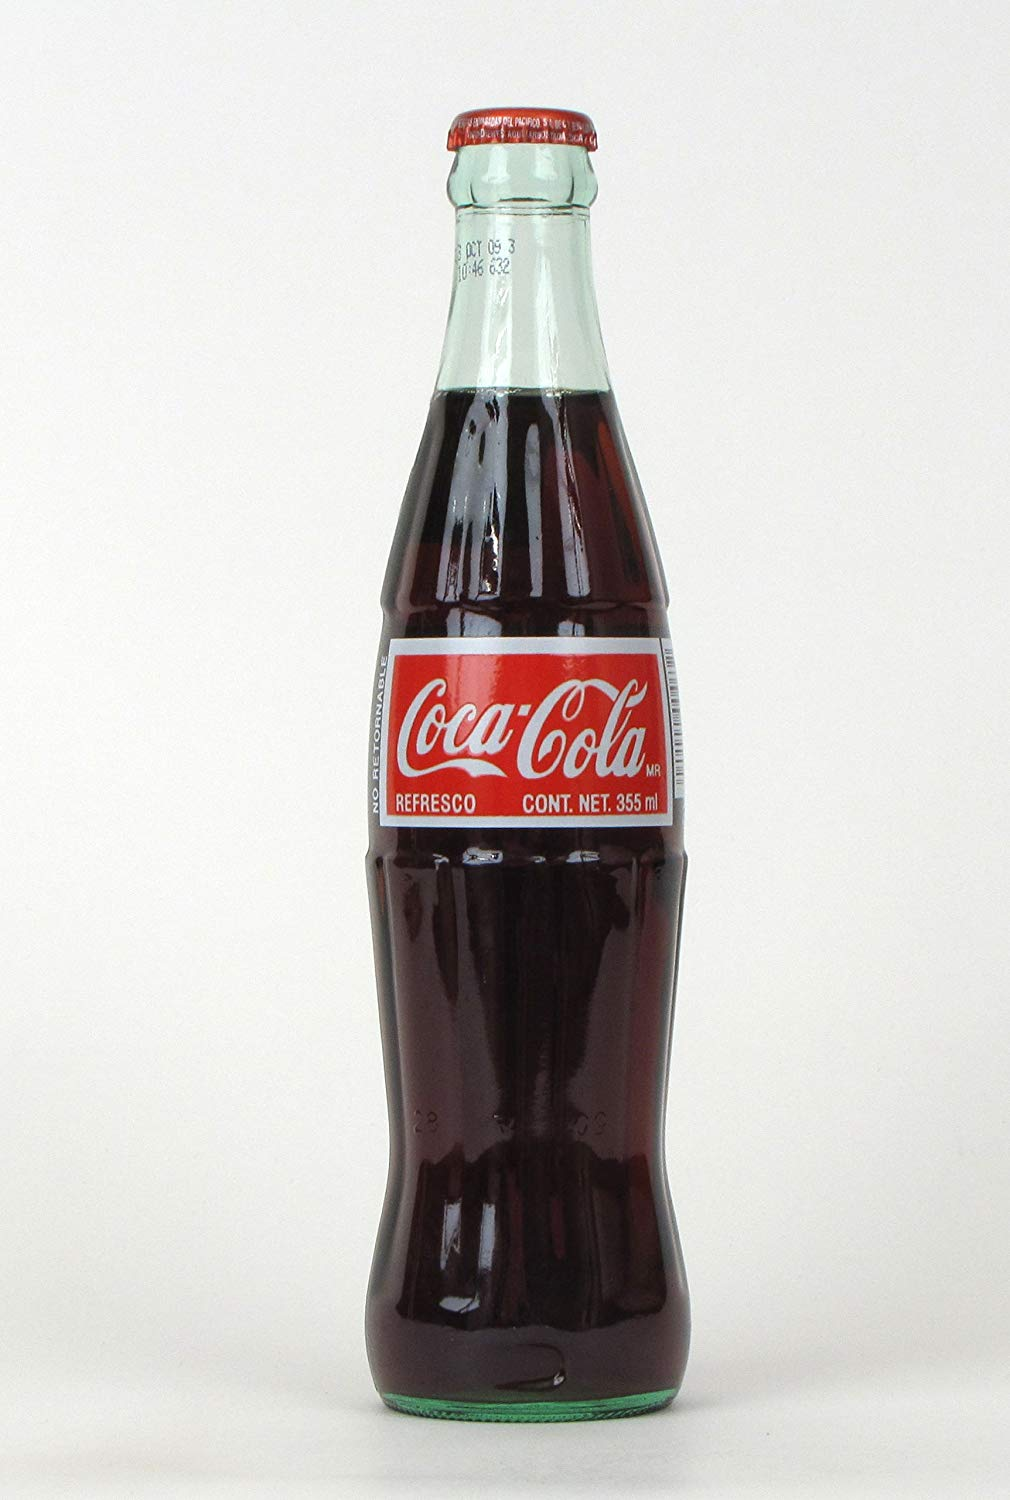Rec_Glass: (340, 70, 711, 1432)
